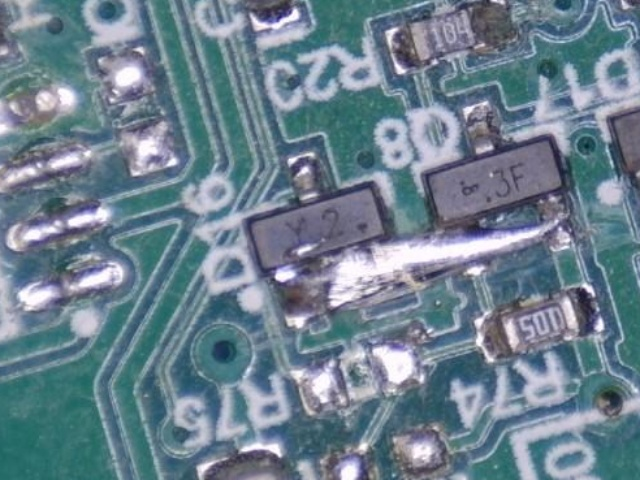pcb_defect: (271, 210, 569, 318)
